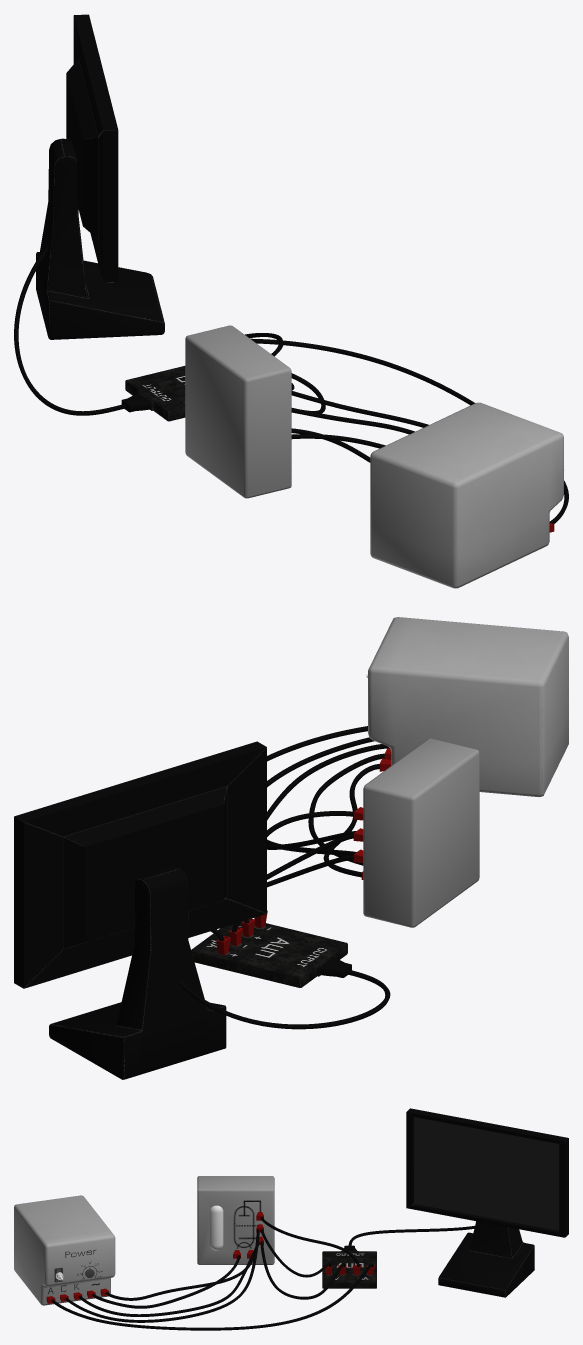
File: Assembled setup.fbx
The picture shows the model from 3 angles, top to bottom: view 1: azimuth 30°, elevation 25°; view 2: azimuth 150°, elevation 25°; view 3: azimuth 270°, elevation 25°; orthographic projection. The views are drawn at different scales.
Parts seen in each view (by area): view 1: Power block.002, Lamp block, Leg, Monitor.002, Converter, NurbsPath.002, NurbsPath.010, NurbsPath.006; view 2: Monitor.002, Power block.002, Lamp block, Leg, Converter, NurbsPath.010, NurbsPath.008, NurbsPath.006, NurbsPath.004, NurbsPath.002, NurbsPath.003; view 3: Monitor.002, Power block.002, Lamp block, Leg, Converter, NurbsPath.002, NurbsPath.006, NurbsPath.008, Flask, NurbsPath.004, NurbsPath.003, NurbsPath.010 (+3 smaller).
Boxes of the visible parts, bbox=[...] form: Power block.002: bbox=[370, 402, 563, 588]; Lamp block: bbox=[185, 325, 291, 498]; Leg: bbox=[36, 138, 164, 339]; Monitor.002: bbox=[66, 14, 118, 283]; Converter: bbox=[125, 366, 185, 421]; NurbsPath.002: bbox=[250, 338, 568, 524]; NurbsPath.010: bbox=[14, 246, 125, 415]; NurbsPath.006: bbox=[291, 391, 428, 427]; Monitor.002: bbox=[14, 741, 266, 988]; Power block.002: bbox=[368, 617, 568, 796]; Lamp block: bbox=[363, 738, 479, 927]; Leg: bbox=[49, 866, 226, 1079]; Converter: bbox=[191, 921, 347, 987]; NurbsPath.010: bbox=[179, 969, 390, 1029]; NurbsPath.008: bbox=[267, 744, 389, 855]; NurbsPath.006: bbox=[267, 737, 374, 849]; NurbsPath.004: bbox=[308, 753, 384, 865]; NurbsPath.002: bbox=[211, 726, 367, 941]; NurbsPath.003: bbox=[323, 764, 379, 877]; Monitor.002: bbox=[406, 1108, 568, 1237]; Power block.002: bbox=[14, 1195, 115, 1305]; Lamp block: bbox=[197, 1176, 274, 1264]; Leg: bbox=[438, 1221, 534, 1297]; Converter: bbox=[322, 1251, 376, 1288]; NurbsPath.002: bbox=[52, 1263, 373, 1330]; NurbsPath.006: bbox=[65, 1229, 259, 1322]; NurbsPath.008: bbox=[79, 1242, 259, 1316]; Flask: bbox=[210, 1205, 223, 1250]; NurbsPath.004: bbox=[92, 1255, 240, 1308]; NurbsPath.003: bbox=[106, 1257, 253, 1300]; NurbsPath.010: bbox=[348, 1225, 474, 1245].
Bounding box in the file's own units: 634 × 451 × 1497.
7 materials, 4 textured.
